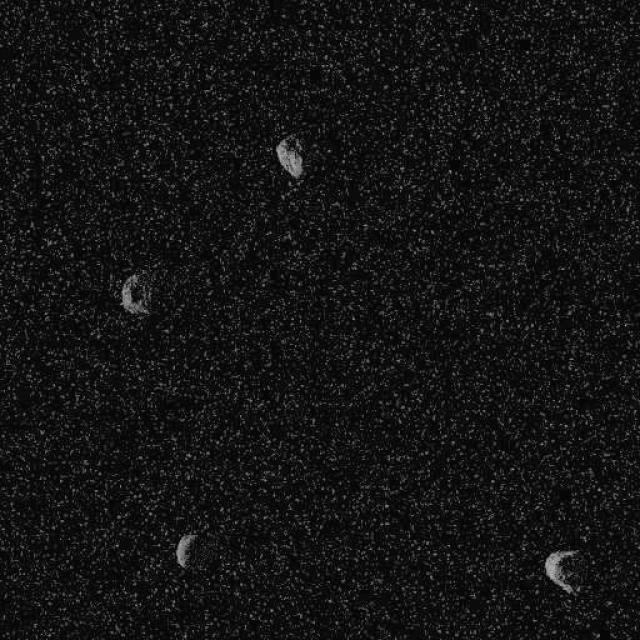D2: (542, 548, 582, 596), (119, 272, 151, 316), (274, 135, 304, 179), (174, 532, 196, 568)
